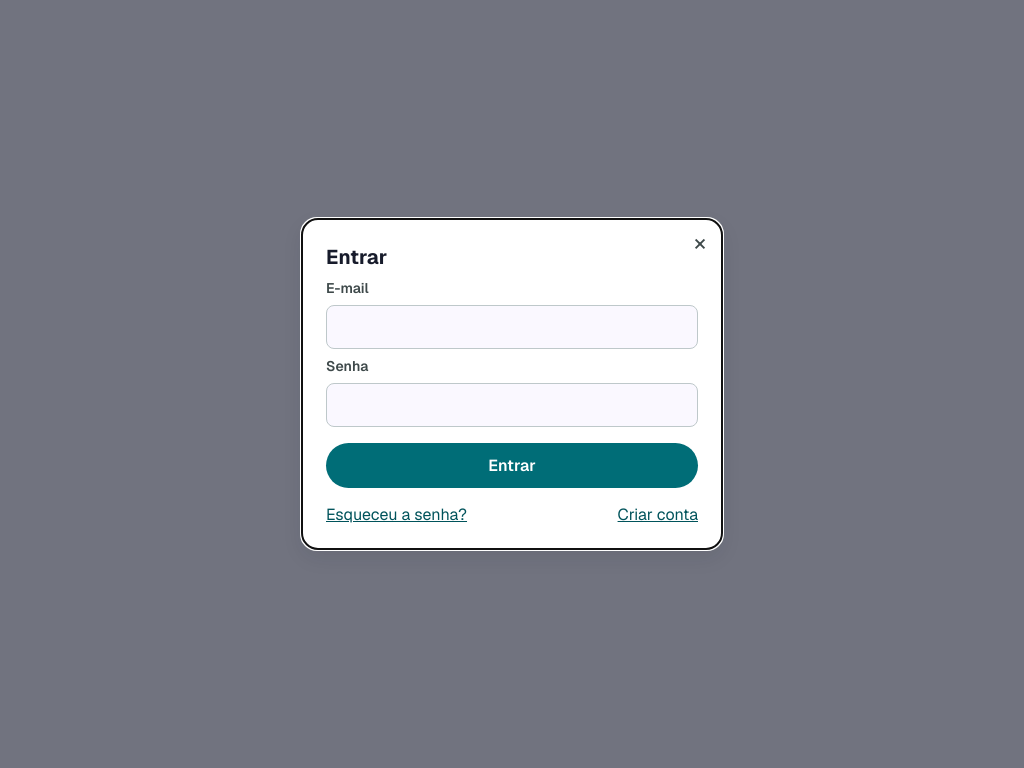
Test: AuthOverlay › given the login form when Esqueceu a senha is clicked then the reset-request form is shown
Click the button "Esqueceu a senha?": [396, 514] box [326,504,467,525]
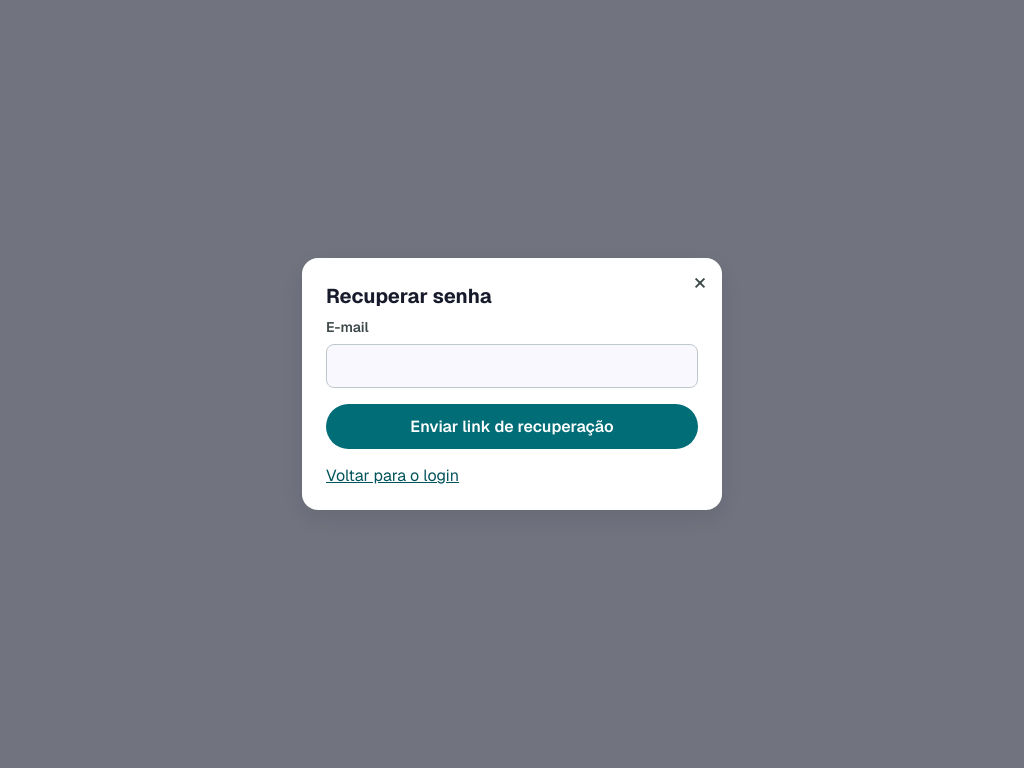
Now the heading "Recuperar senha" is shown, box [326,283,492,309]
